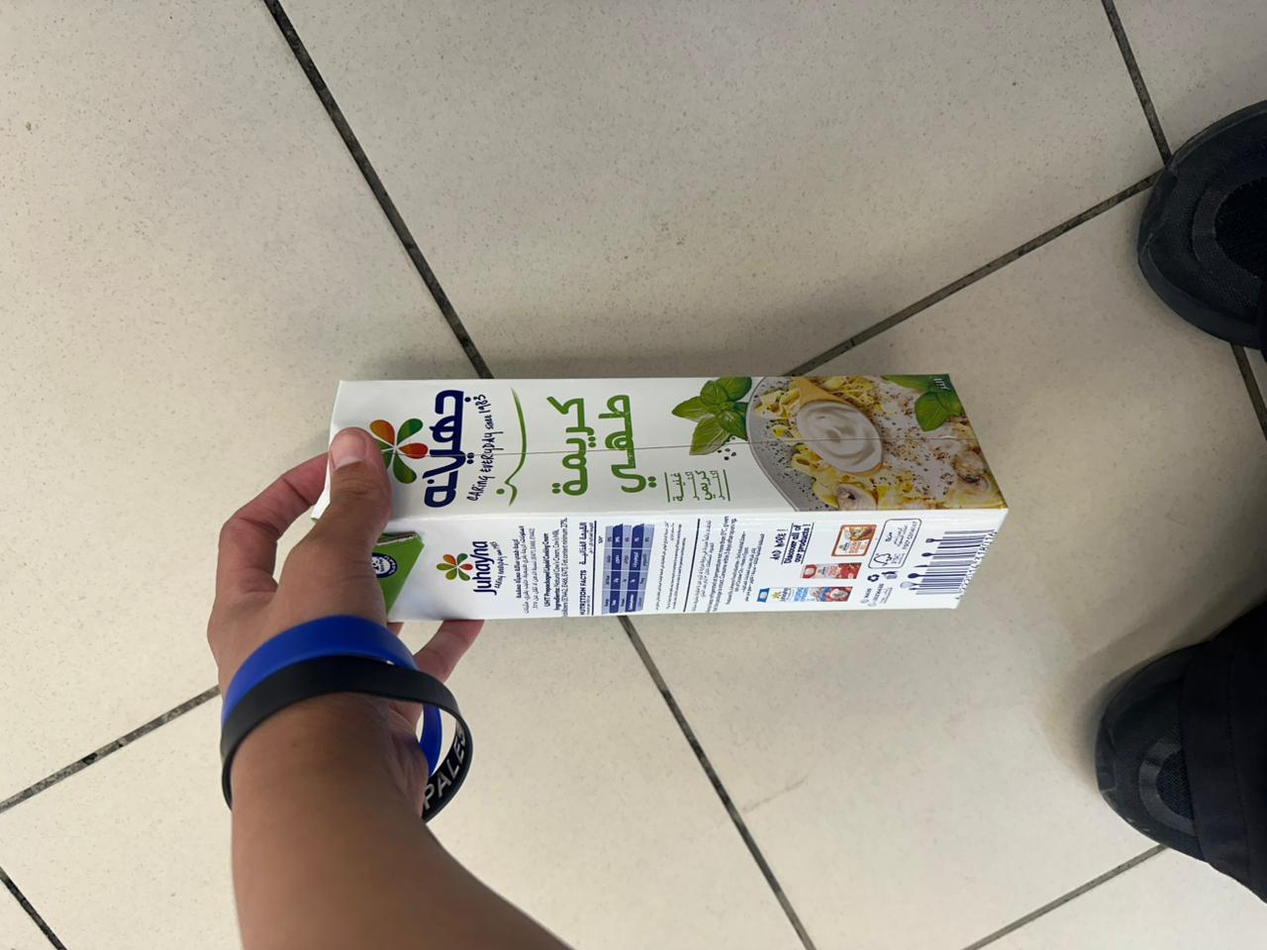cooking_cream: (289, 321, 1035, 640)
